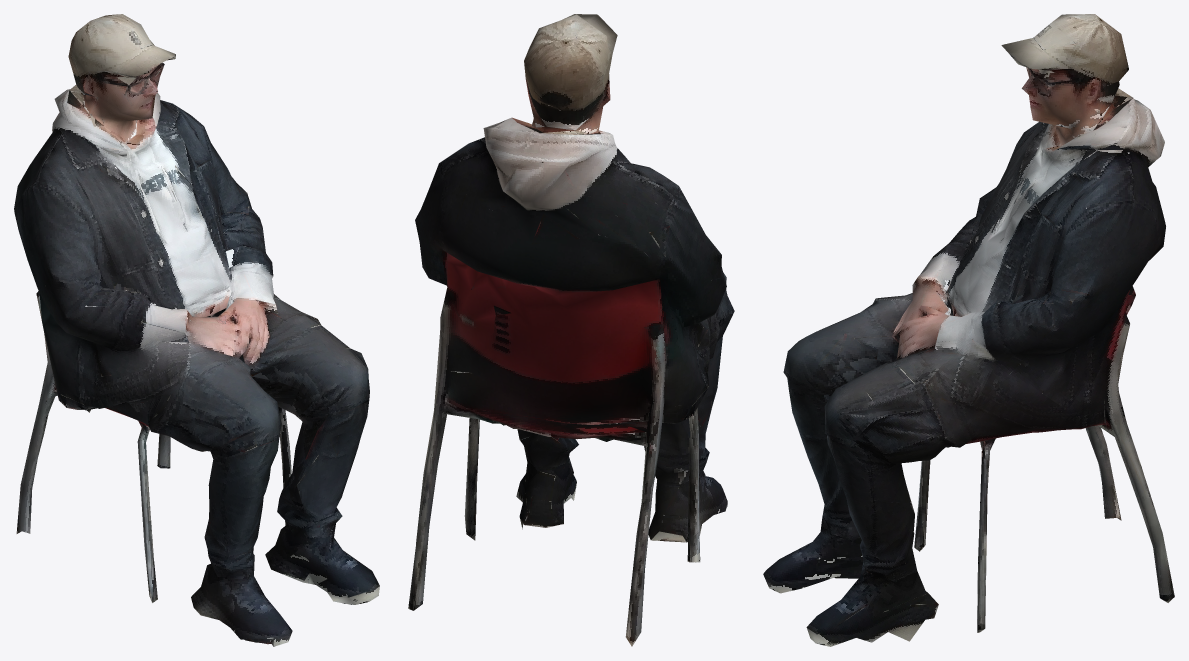
The model's file is head.glb.
3 renders of one model, left to right at view 1: azimuth 30°, elevation 25°; view 2: azimuth 150°, elevation 25°; view 3: azimuth 270°, elevation 25°, orthographic. The views are drawn at different scales.
Visible parts, largest first — view 1: PS1 Sem; view 2: PS1 Sem; view 3: PS1 Sem.
Part boxes in pixels (x1=…): PS1 Sem: x1=14, y1=14, x2=379, y2=646; PS1 Sem: x1=408, y1=14, x2=734, y2=646; PS1 Sem: x1=763, y1=14, x2=1174, y2=646.
Bounding box in the file's own units: 1.74 × 3.45 × 2.29.
Materials: 1 (1 with a texture image).
